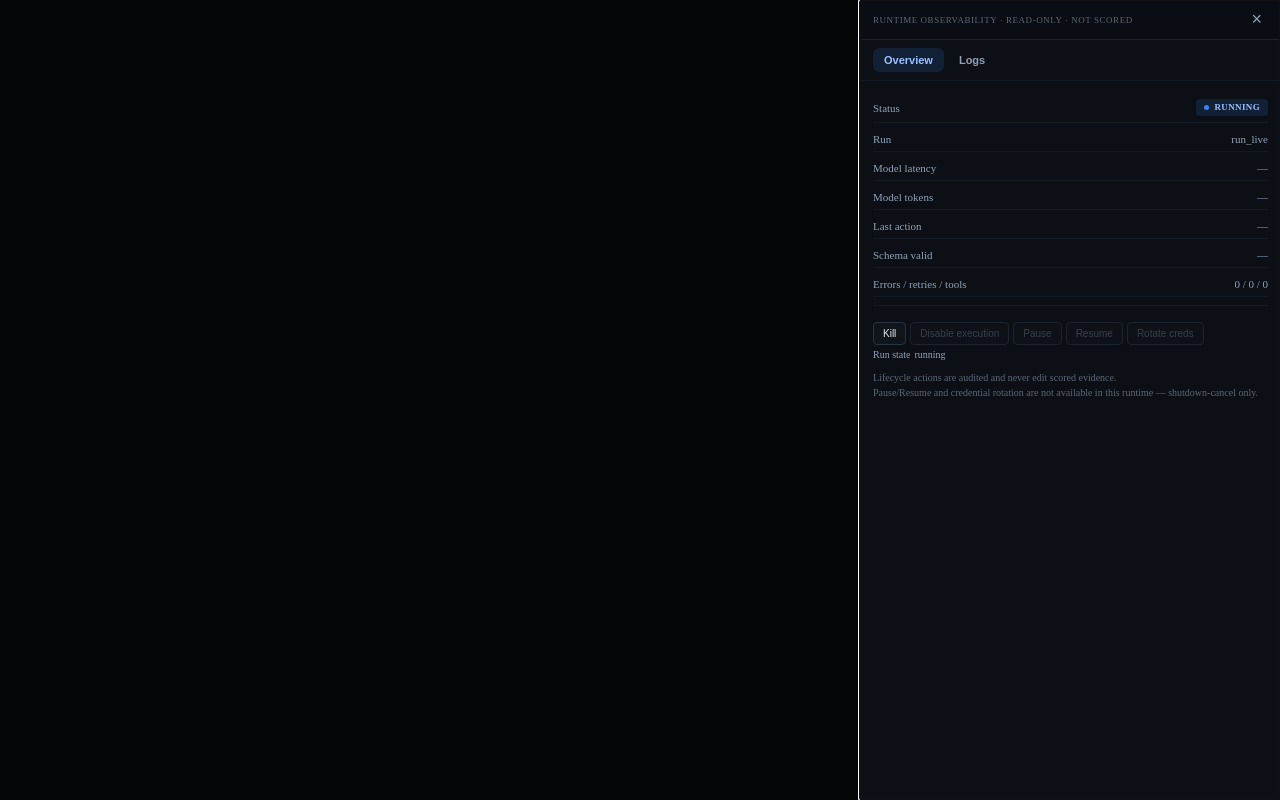
Test: AgentOpsDrawer (REQ-030..032 / AC-003 / AC-030 / SEC-003 / F-6 live data) › #1 renders REAL runtime events from the owner-scoped endpoint (mock OFF) — the RUNTIME_LOG/RUNTIME_OVERVIEW fixtures are ABSENT from the live drawer
Click the tab "Logs". click: (972, 60)
box: [948,48,996,72]
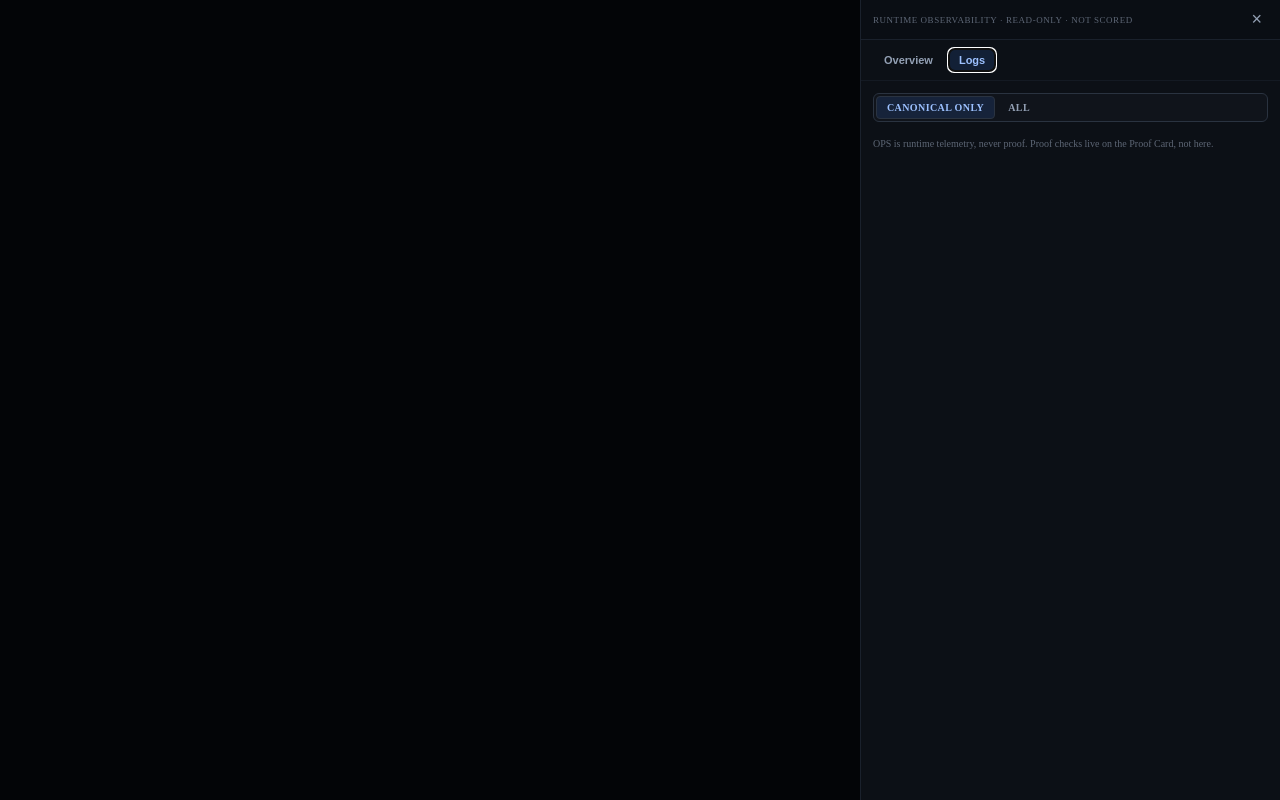
Click the radio button labelled "All". click: (1019, 108)
box: [997,96,1041,119]
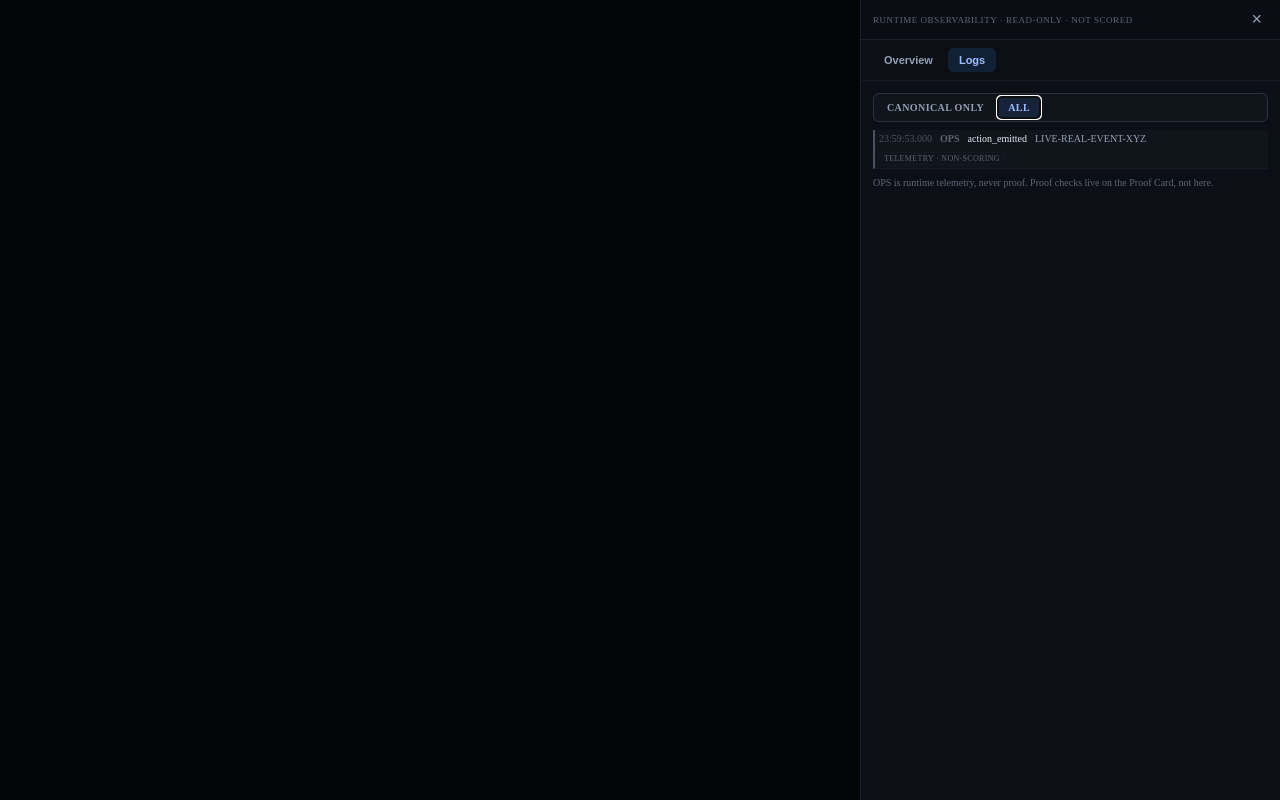
Result: the text "LIVE-REAL-EVENT-XYZ" is shown at [1035,133,1146,144]
